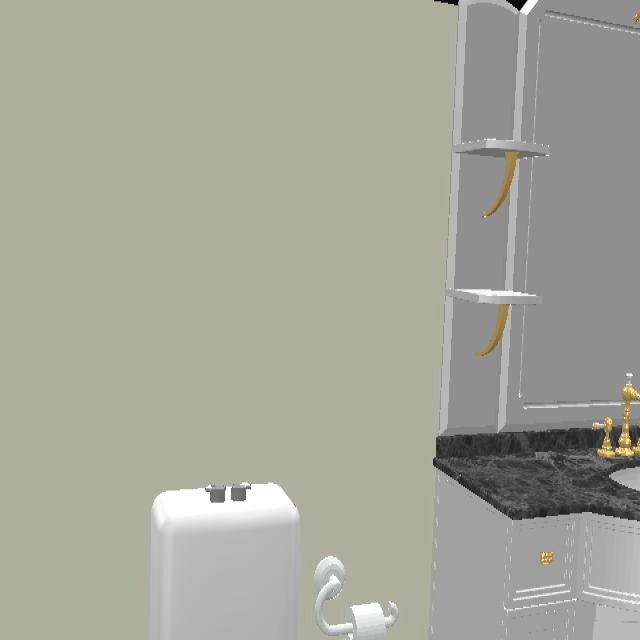cabinet: (430, 471, 640, 640)
toilet: (148, 483, 302, 640)
washbasin: (613, 464, 640, 496)
